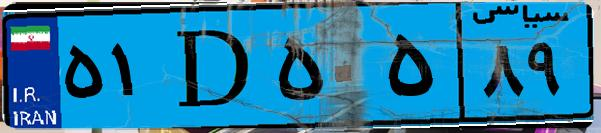0: (330, 28, 385, 110)
1: (110, 28, 158, 98)
5: (270, 28, 330, 110), (385, 28, 445, 110), (57, 26, 110, 100)
8: (475, 38, 525, 113)
9: (525, 38, 570, 115)
D: (158, 12, 270, 120)
